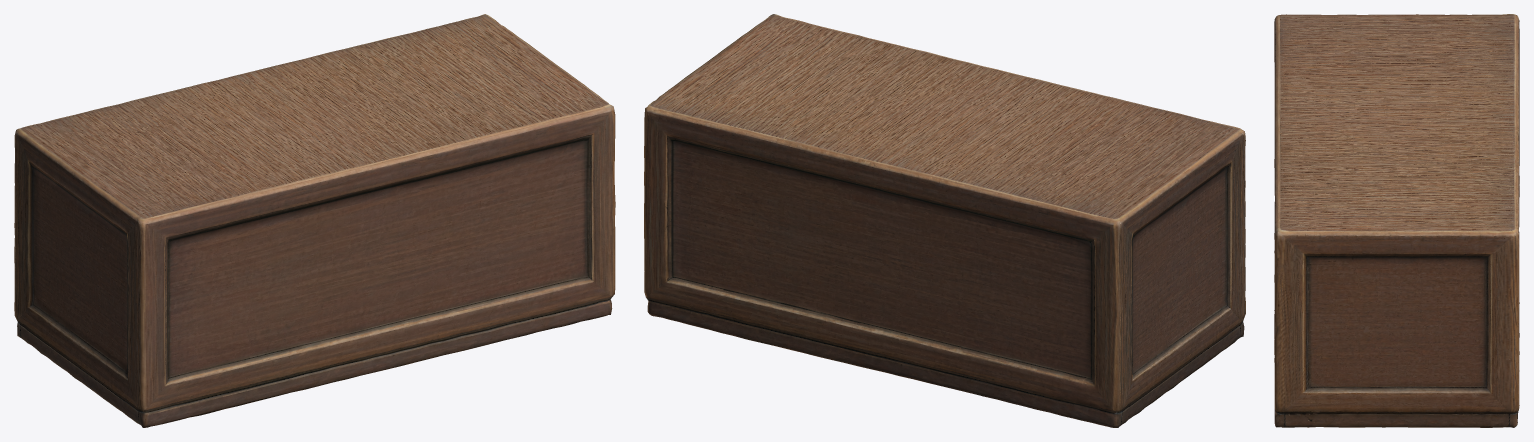
The model's file is Furn_PuppetStage_Base.fbx.
3 views of the same model, side by side, from view 1: azimuth 30°, elevation 25°; view 2: azimuth 150°, elevation 25°; view 3: azimuth 270°, elevation 25° (orthographic). The views are drawn at different scales.
Parts seen in each view (by area): view 1: texture_mapping; view 2: texture_mapping; view 3: texture_mapping.
Boxes of the visible parts, x1=… form: texture_mapping: x1=14, y1=14, x2=615, y2=427; texture_mapping: x1=644, y1=14, x2=1245, y2=427; texture_mapping: x1=1274, y1=14, x2=1519, y2=427.
Bounding box in the file's own units: 1 × 0.4717 × 0.4205.
1 material, 1 textured.
